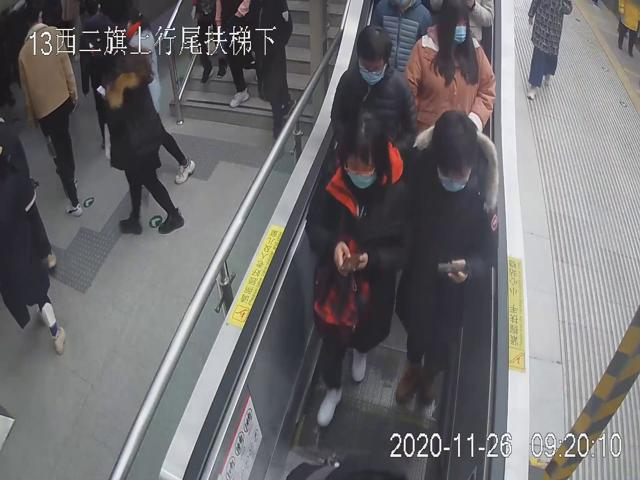person: (304, 108, 413, 430), (394, 108, 499, 410), (401, 0, 496, 134), (329, 19, 416, 158)
